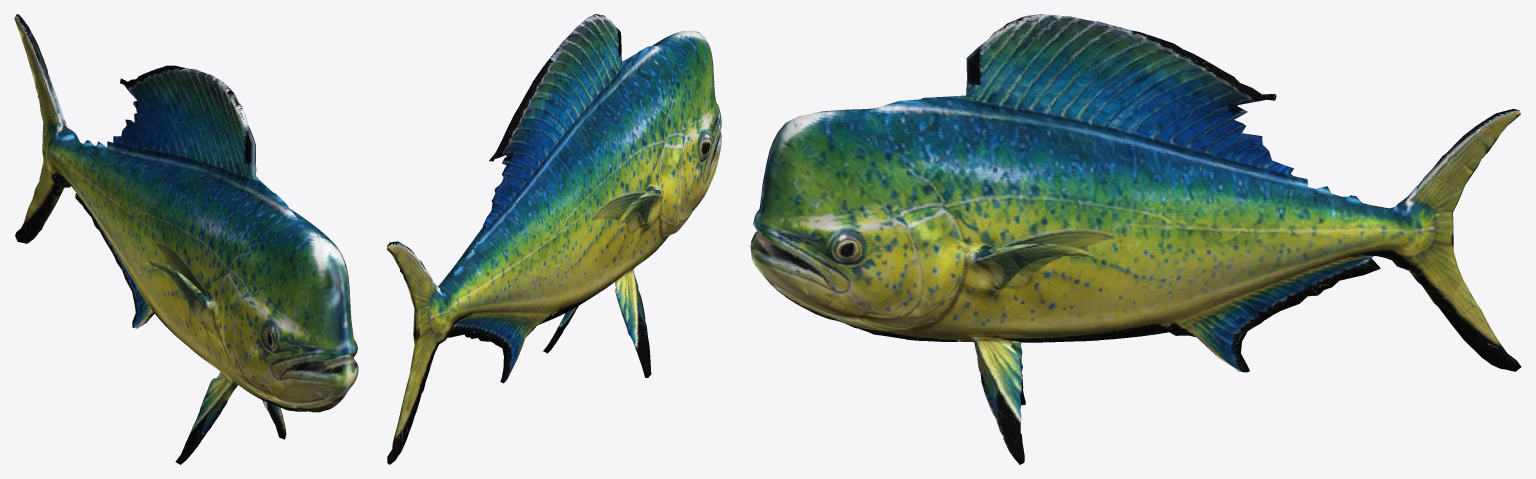
File: fish_mahi.glb
3 views of the same model, side by side, from view 1: azimuth 30°, elevation 25°; view 2: azimuth 150°, elevation 25°; view 3: azimuth 270°, elevation 25° (orthographic). The views are drawn at different scales.
Visible parts, largest first — view 1: geometry_0; view 2: geometry_0; view 3: geometry_0.
Part boxes in pixels (box(x1,y1,x2,y2)): geometry_0: box(14, 14, 358, 464); geometry_0: box(387, 14, 721, 464); geometry_0: box(750, 14, 1521, 464).
Bounding box in the file's own units: 0.3715 × 1.18 × 1.96.
1 material, 1 textured.
